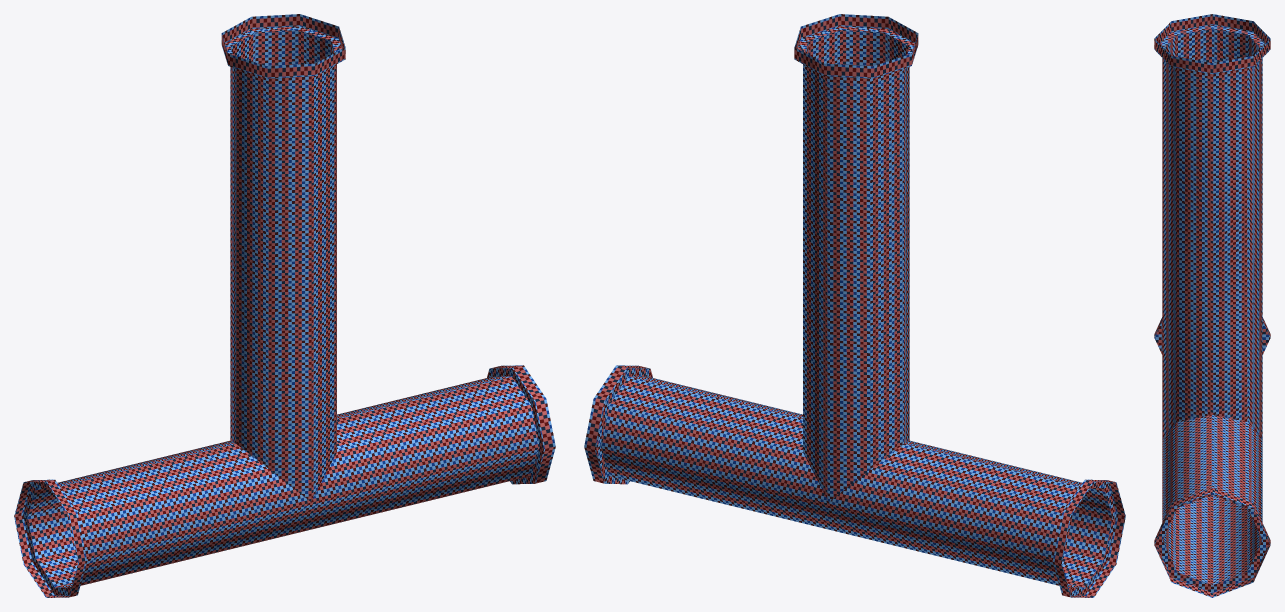
Rendered from Pipe_Split.fbx.
The picture shows the model from 3 angles, left to right: view 1: azimuth 30°, elevation 25°; view 2: azimuth 150°, elevation 25°; view 3: azimuth 270°, elevation 25°; orthographic projection. The views are drawn at different scales.
Visible parts, largest first — view 1: pipe_split_01; view 2: pipe_split_01; view 3: pipe_split_01.
Part boxes in pixels (x1,y1,x2,y2): pipe_split_01: (14,14,555,597); pipe_split_01: (584,14,1125,597); pipe_split_01: (1154,14,1270,597).
Bounding box in the file's own units: 100 × 100 × 23.23.
1 material, 1 textured.
